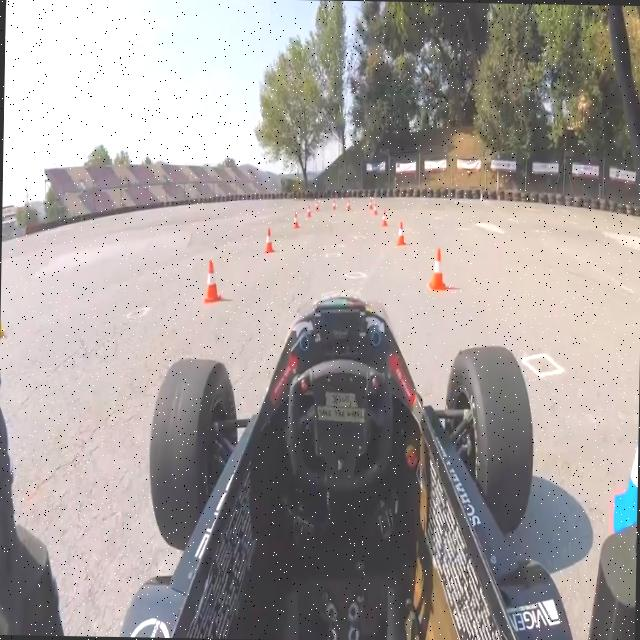blue_cone: (609, 424, 638, 544)
orange_cone: (202, 257, 224, 303), (428, 246, 449, 293), (264, 227, 275, 253), (398, 222, 404, 246), (292, 212, 300, 229), (381, 208, 387, 226), (305, 205, 312, 218), (373, 202, 378, 216), (368, 198, 372, 210), (314, 201, 319, 210), (332, 199, 336, 209), (346, 199, 350, 209)
